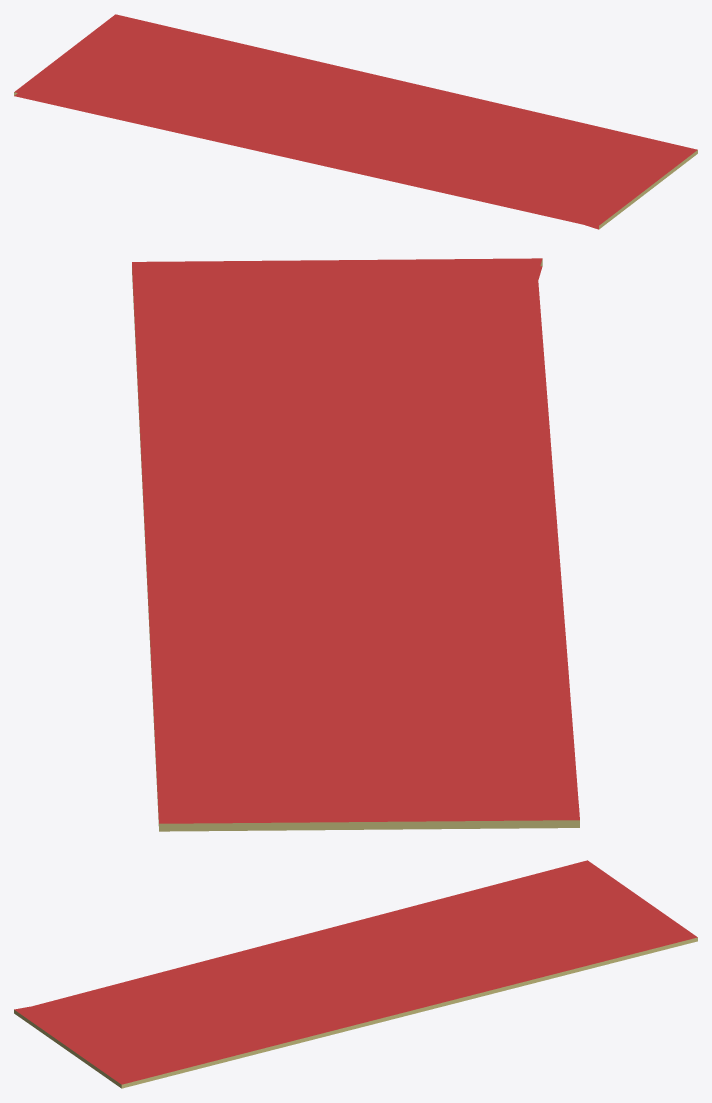
3 renders of one model, top to bottom at view 1: azimuth 30°, elevation 25°; view 2: azimuth 150°, elevation 25°; view 3: azimuth 270°, elevation 25°, orthographic. The views are drawn at different scales.
Size of the model in its own units: 12.19 by 15.7 by 0.1.
